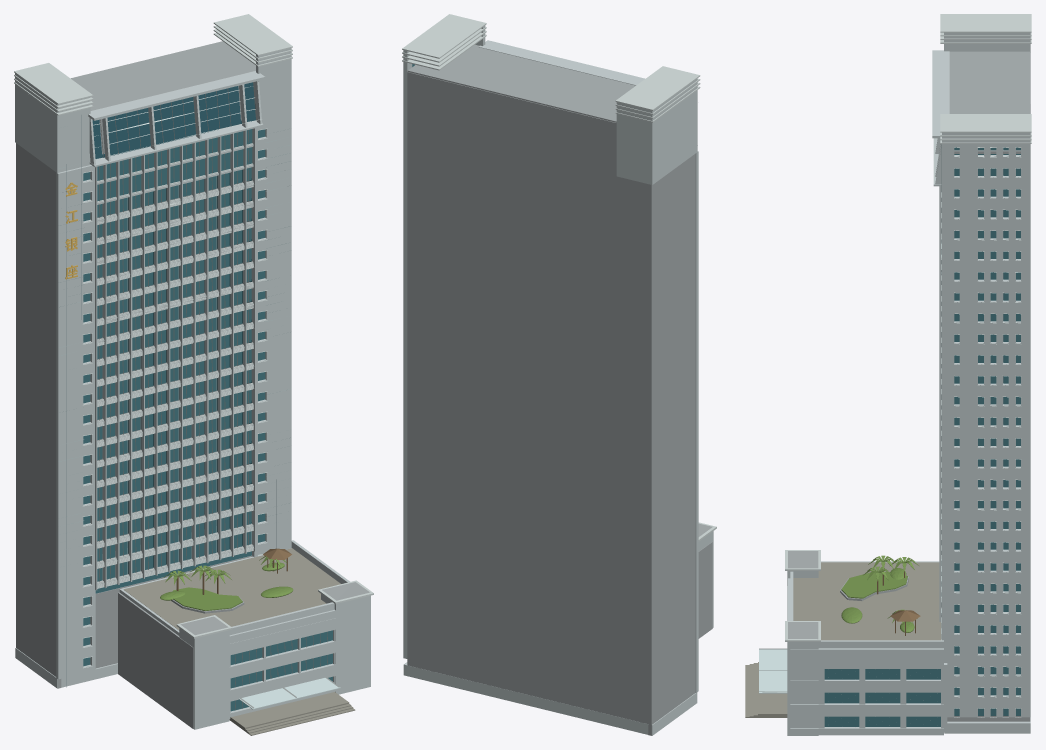
File: light.glb
The picture shows the model from 3 angles, left to right: view 1: azimuth 30°, elevation 25°; view 2: azimuth 150°, elevation 25°; view 3: azimuth 270°, elevation 25°; orthographic projection. The views are drawn at different scales.
Parts seen in each view (by area): view 1: Front endwall panels, Curved planter rim, Endwall inset glazing, Observed canopy diagonal rod, Terrace paving surface, Recessed crown glazing, Curved planted island, Entrance canopy, Endwall vertical panel joints; view 2: Curved planter rim, Front endwall panels, Observed canopy diagonal rod; view 3: Front endwall panels, Endwall inset glazing, Terrace paving surface, Curved planter rim, Observed canopy diagonal rod, Curved planted island, Entrance canopy, Endwall vertical panel joints.
Part boxes in pixels (bbox=[...]): Front endwall panels: bbox=[15, 48, 370, 729]; Curved planter rim: bbox=[16, 41, 369, 728]; Endwall inset glazing: bbox=[83, 104, 332, 711]; Observed canopy diagonal rod: bbox=[14, 14, 373, 710]; Terrace paving surface: bbox=[123, 548, 355, 735]; Recessed crown glazing: bbox=[92, 82, 255, 158]; Curved planted island: bbox=[160, 555, 293, 610]; Entrance canopy: bbox=[239, 678, 340, 709]; Endwall vertical panel joints: bbox=[58, 115, 291, 687]; Curved planter rim: bbox=[407, 44, 712, 735]; Front endwall panels: bbox=[403, 25, 713, 735]; Observed canopy diagonal rod: bbox=[402, 14, 716, 541]; Front endwall panels: bbox=[787, 32, 1030, 735]; Endwall inset glazing: bbox=[824, 147, 1020, 726]; Terrace paving surface: bbox=[745, 562, 941, 717]; Curved planter rim: bbox=[788, 51, 1030, 721]; Observed canopy diagonal rod: bbox=[759, 14, 1031, 725]; Curved planted island: bbox=[841, 555, 918, 632]; Entrance canopy: bbox=[759, 649, 787, 693]; Endwall vertical panel joints: bbox=[941, 144, 941, 638].
Size of the model in its own units: 30.87 by 72.11 by 31.03.
